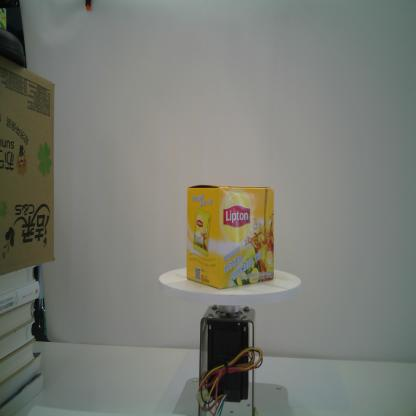Instant Drink: (186, 184, 274, 290)
